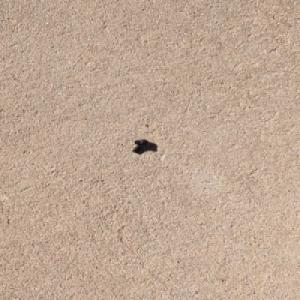BoltWasher: (131, 139, 151, 152)
